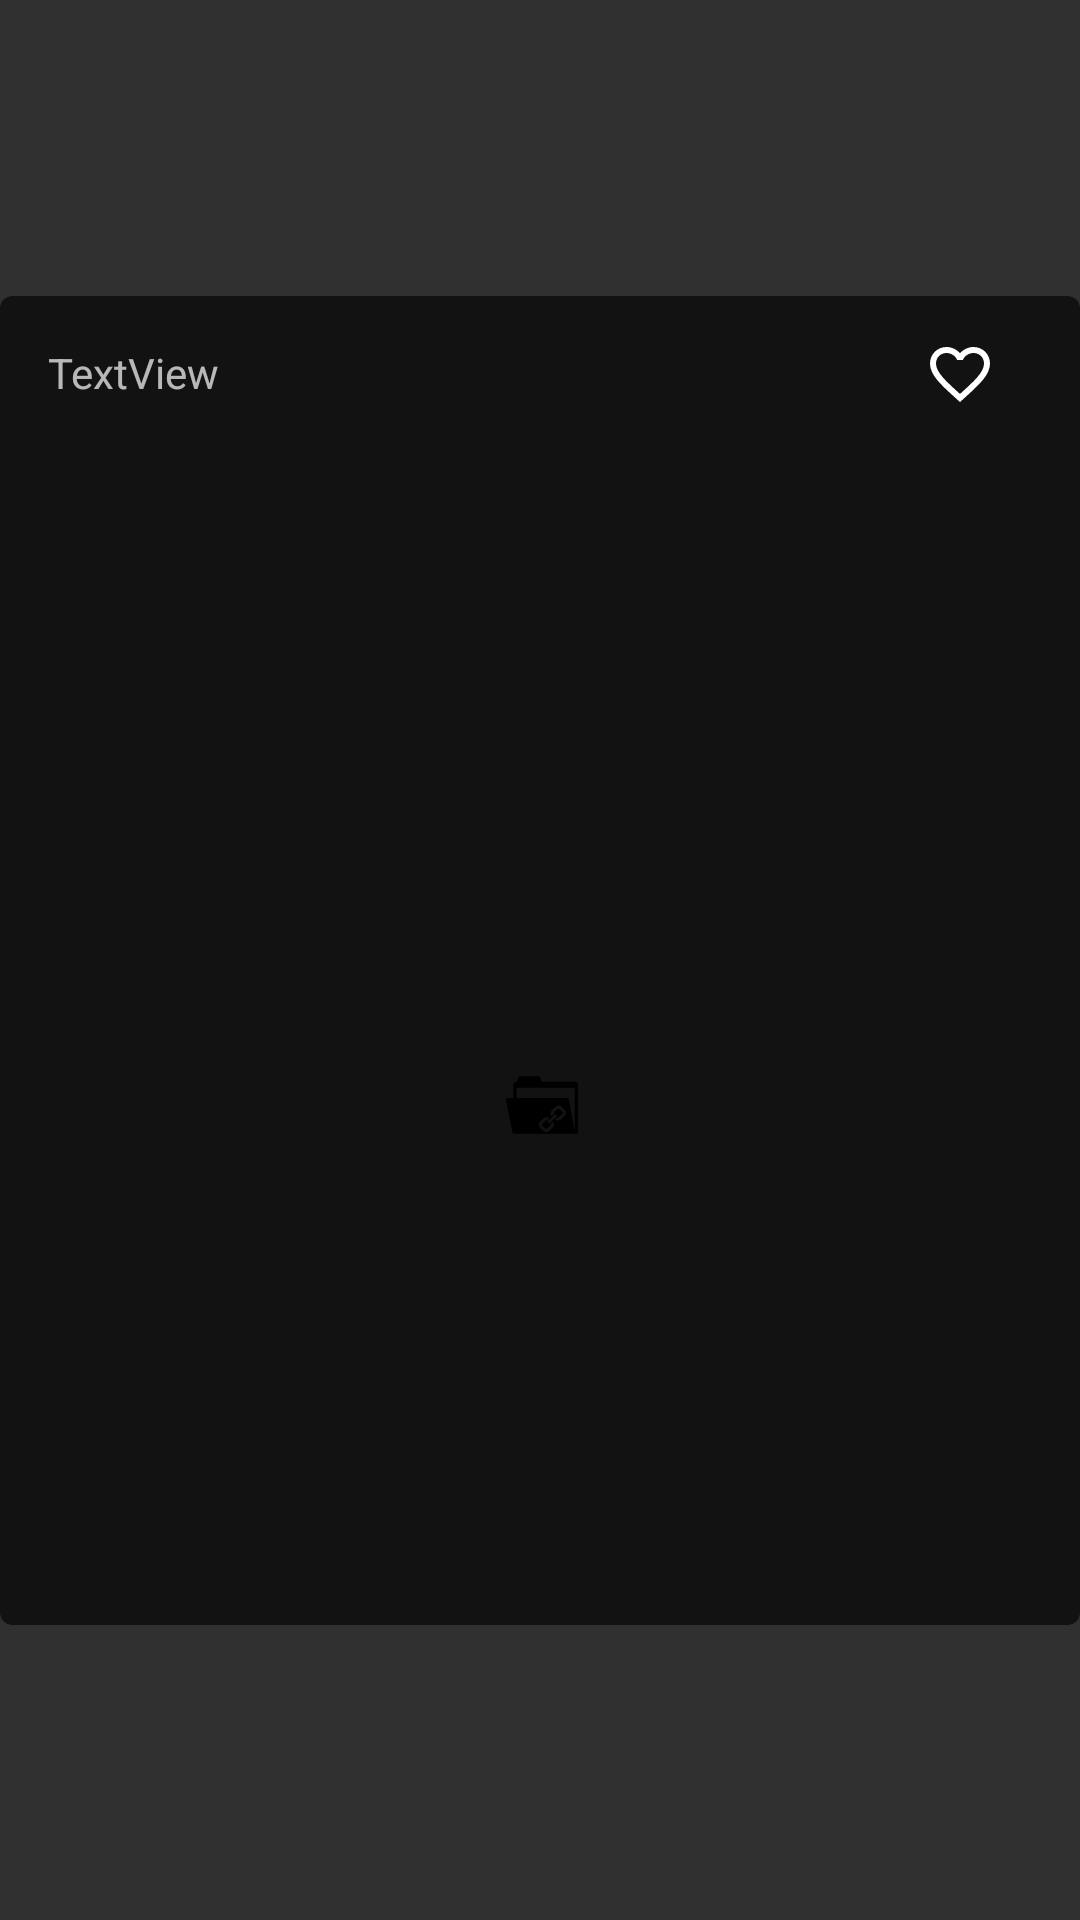

Where to tap for icons on this 1080*1920 app screen, as [x,y]:
unlike: [960,374]
